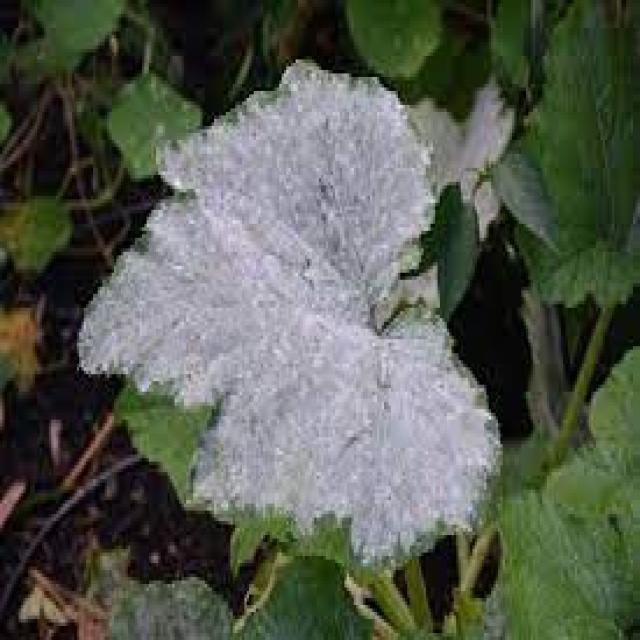powdery-mildew: (132, 80, 466, 503)
